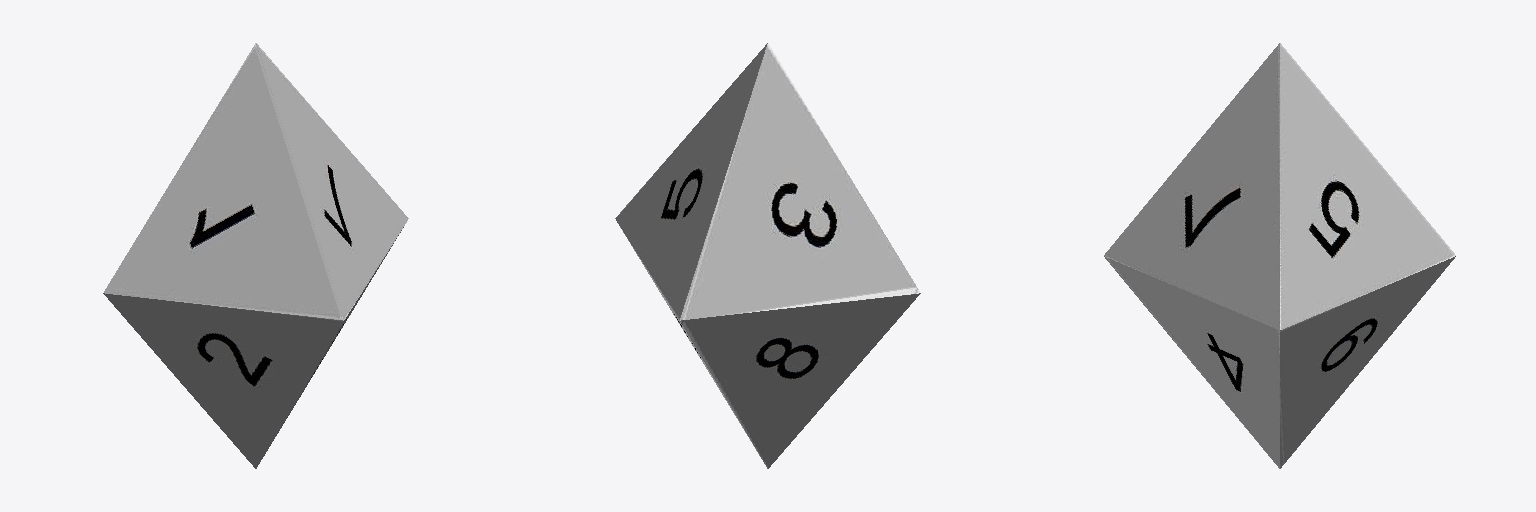
3 renders of one model, left to right at view 1: azimuth 30°, elevation 25°; view 2: azimuth 150°, elevation 25°; view 3: azimuth 270°, elevation 25°, orthographic.
Parts seen in each view (by area): view 1: Cone; view 2: Cone; view 3: Cone.
Boxes of the visible parts, <box> form: Cone: <box>103,43,408,468</box>; Cone: <box>615,43,920,468</box>; Cone: <box>1104,43,1455,468</box>.
Size of the model in its own units: 3 by 4 by 3.
1 materials, 1 textured.